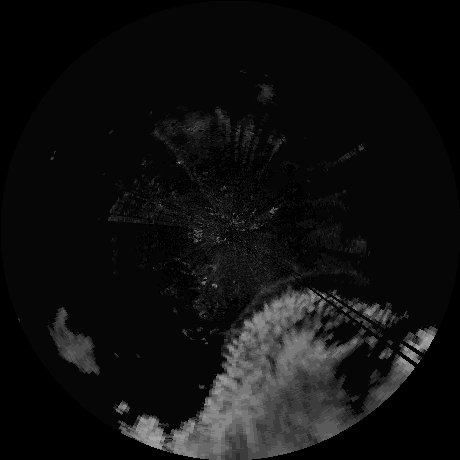frontgust: (232, 271, 318, 319)
